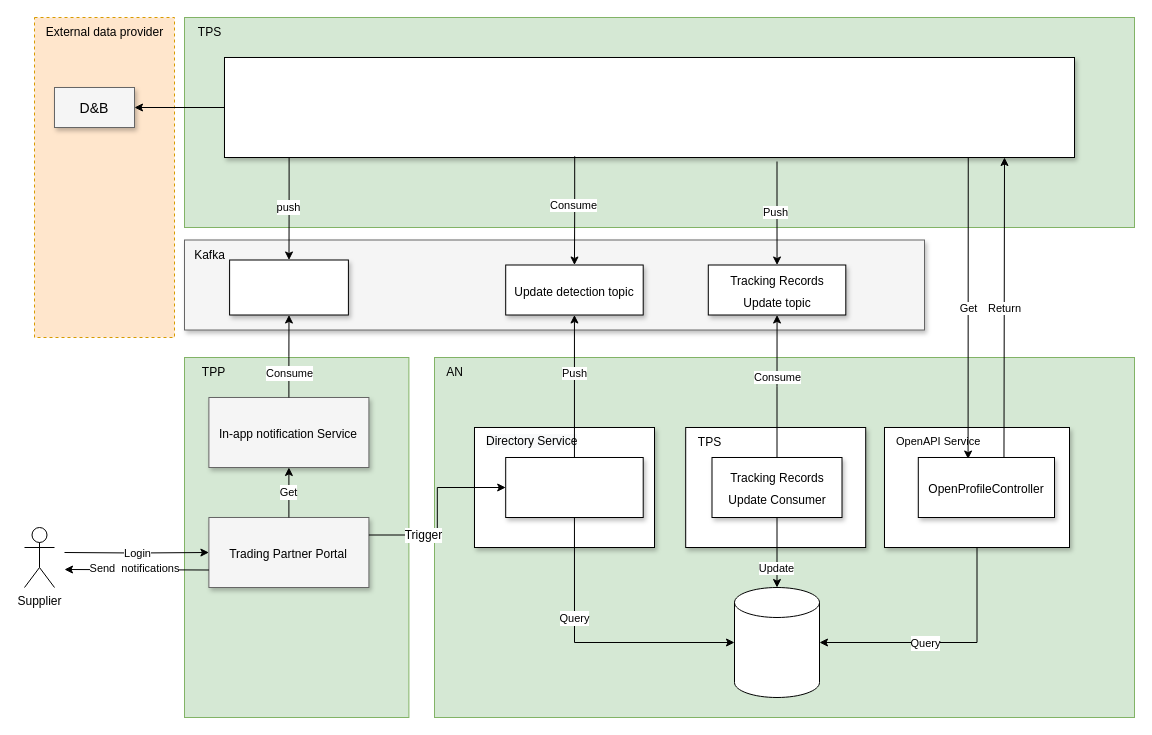
The diagram is 1152 pixels wide and 735 high, and some of its shapes have lost their labels. The centre of each missing label's shape, as x and y in pixels:
AN Storage: the point at 777,642
CompanyProfile PostLoginTask: the point at 575,488
Externaldata-service: the point at 650,108
Notification Event topic: the point at 289,288
